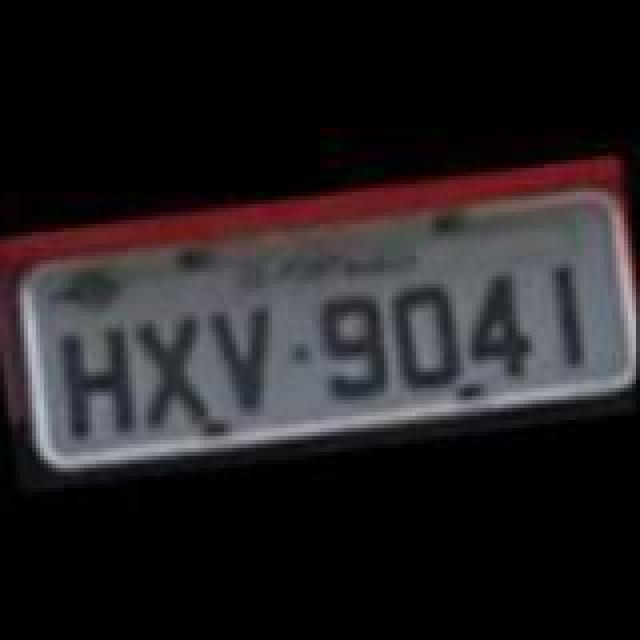1: (540, 258, 592, 366)
4: (454, 262, 542, 382)
9: (310, 284, 406, 408)
H: (54, 318, 146, 442)
O: (380, 274, 464, 390)
V: (200, 298, 292, 422)
X: (128, 308, 220, 428)
